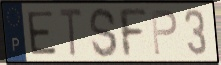3: (183, 6, 209, 58)
E: (25, 10, 59, 57)
F: (116, 6, 150, 59)
P: (149, 8, 179, 57)
S: (88, 5, 119, 60)
T: (58, 6, 84, 59)
